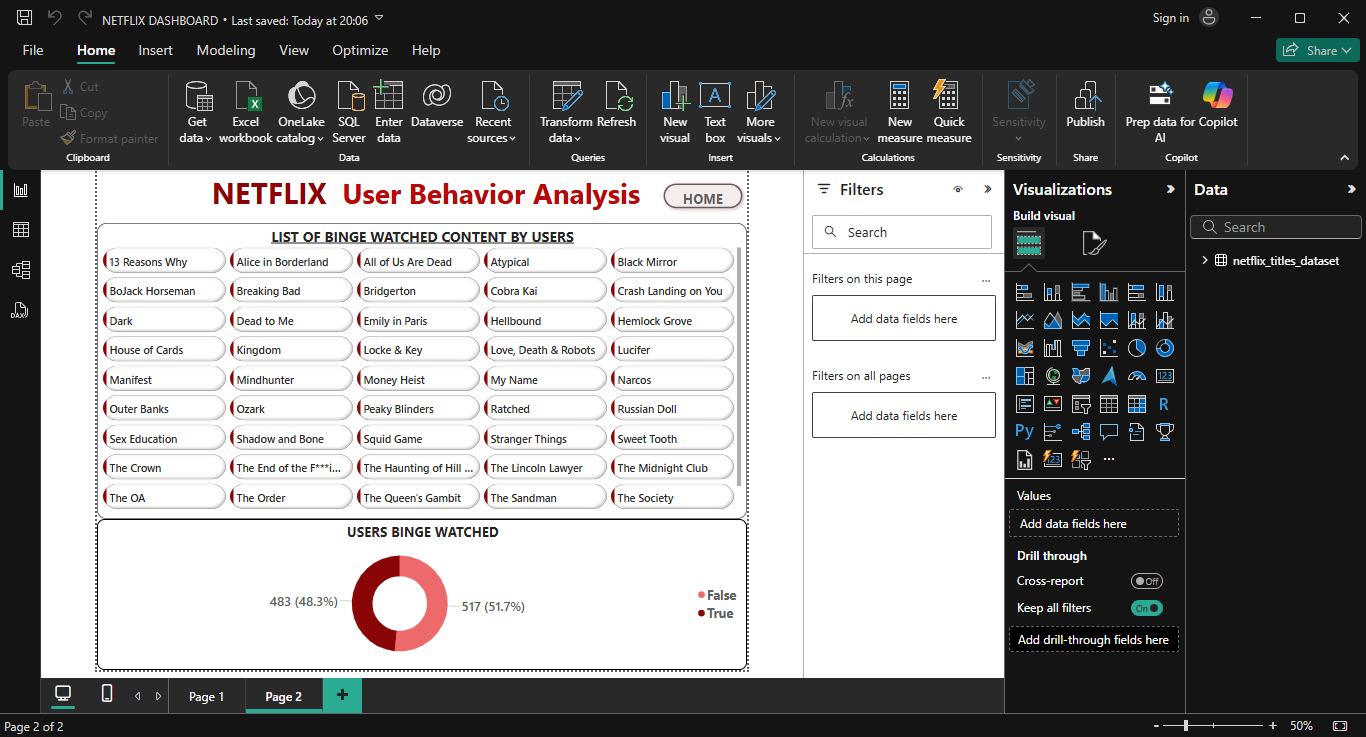

The dashboard page shown, as its layout file describes it:
{"tool":"powerbi","page":{"name":"Page 2","canvas":[1300,1000],"ordinal":1},"visuals":[{"type":"textbox","box":[0,0,1300,106],"z":0},{"type":"textbox","box":[10,290,280,280],"z":1000},{"type":"advancedSlicerVisual","title":"LIST OF BINGE WATCHED CONTENT  BY USERS","fields":{"Values":["netflix_real_titles_dataset.title"]},"box":[0,105.9,1300,592.2],"z":2000},{"type":"actionButton","box":[1123.8,18.8,176.2,67.5],"z":3000},{"type":"donutChart","title":"USERS BINGE WATCHED","fields":{"Category":["netflix_real_titles_dataset.is_binge_watch"],"Y":["CountNonNull(netflix_real_titles_dataset.title)"]},"box":[0,698,1300,302],"z":4000}]}

Visuals, with their boxes on the page's 1300x1000 design canvas (x1, y1, x2, y2). These are canvas units, not pixel positions in the 1366x737 screenshot, which may show the page scaled, cropped or inside an application window:
textbox: locate(0, 0, 1300, 106)
textbox: locate(10, 290, 290, 570)
"LIST OF BINGE WATCHED CONTENT  BY USERS" advancedSlicerVisual: locate(0, 106, 1300, 698)
actionButton: locate(1124, 19, 1300, 86)
"USERS BINGE WATCHED" donutChart: locate(0, 698, 1300, 1000)
